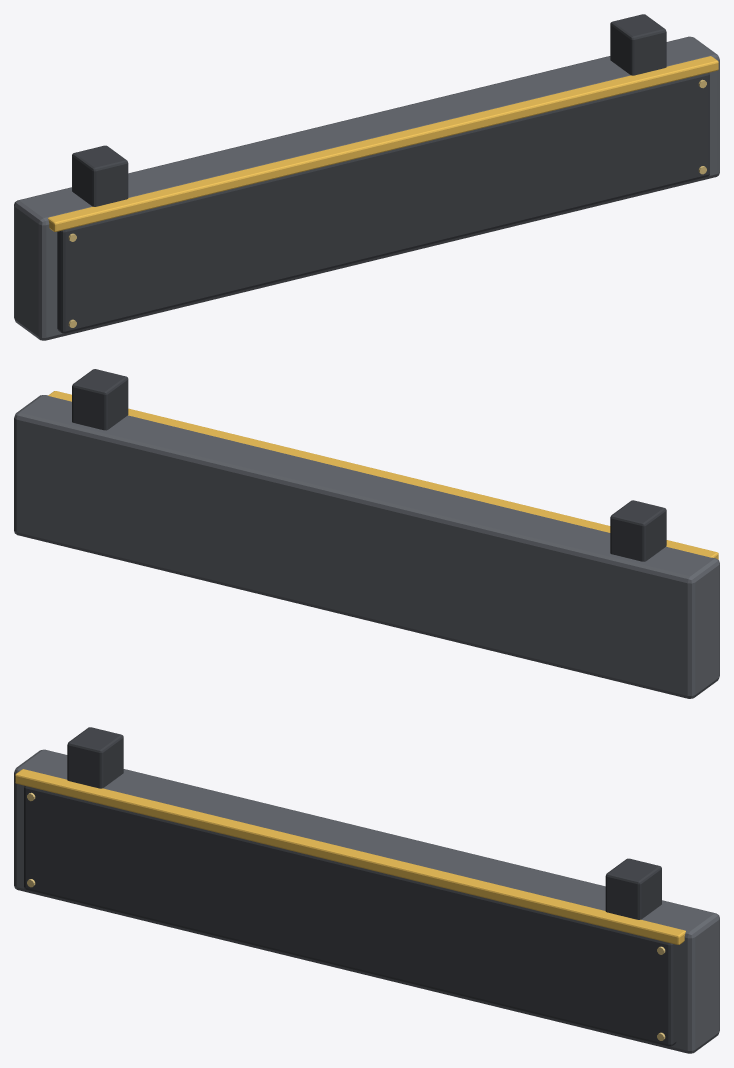
Rendered from overhead_telemetry_pod.glb.
3 views of the same model, one above another, from view 1: azimuth 30°, elevation 25°; view 2: azimuth 150°, elevation 25°; view 3: azimuth 330°, elevation 25° (orthographic).
Parts seen in each view (by area): view 1: PodOuterBezel, PodBody, PodTopAccent, RoofBracket_0.34, RoofBracket_-0.34; view 2: PodBody, PodTopAccent, RoofBracket_-0.34, RoofBracket_0.34; view 3: PodOuterBezel, PodBody, PodTopAccent, RoofBracket_-0.34, RoofBracket_0.34.
Part boxes in pixels (x1,y1,x2,y2): PodOuterBezel: [57, 72, 709, 333]; PodBody: [14, 36, 719, 340]; PodTopAccent: [48, 56, 718, 231]; RoofBracket_0.34: [610, 14, 666, 75]; RoofBracket_-0.34: [72, 145, 128, 206]; PodBody: [14, 395, 719, 698]; PodTopAccent: [48, 391, 718, 559]; RoofBracket_-0.34: [610, 500, 666, 561]; RoofBracket_0.34: [72, 369, 128, 430]; PodOuterBezel: [24, 785, 676, 1046]; PodBody: [14, 749, 719, 1053]; PodTopAccent: [15, 769, 685, 944]; RoofBracket_-0.34: [67, 727, 123, 788]; RoofBracket_0.34: [605, 858, 661, 919].
Size of the model in its own units: 0.86 by 0.194 by 0.0795.
